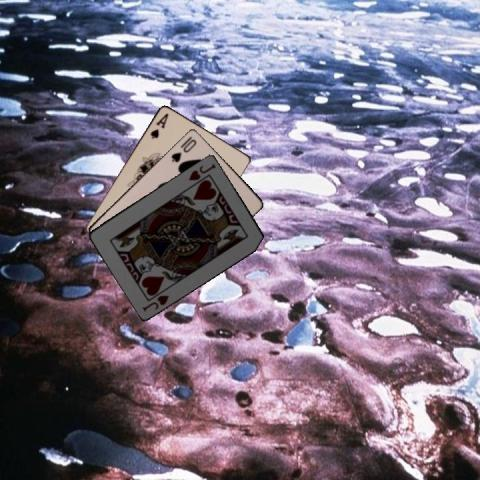10s: (168, 136, 198, 164)
As: (147, 110, 170, 140)
Jh: (139, 286, 171, 313), (186, 160, 218, 182)
